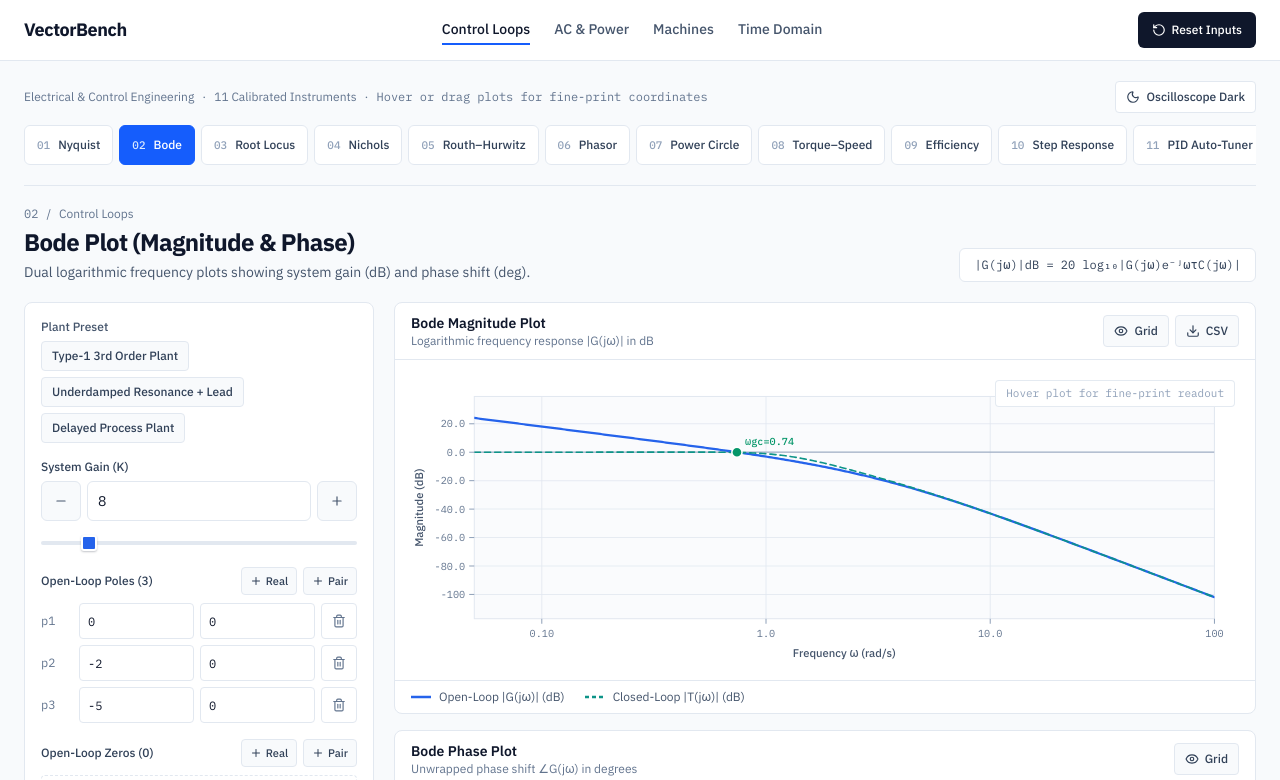
Test case: VectorBench Engineering Workbench Integration › fits FOPDT model from uploaded CSV, switches PID rules, simulates, and applies settings (Blue Pill)
Later steps or results of the test are not shown.
Click the tab "11 PID Auto-Tuner" at x=1200, y=145, box x1=1133 y1=125 x2=1266 y2=165
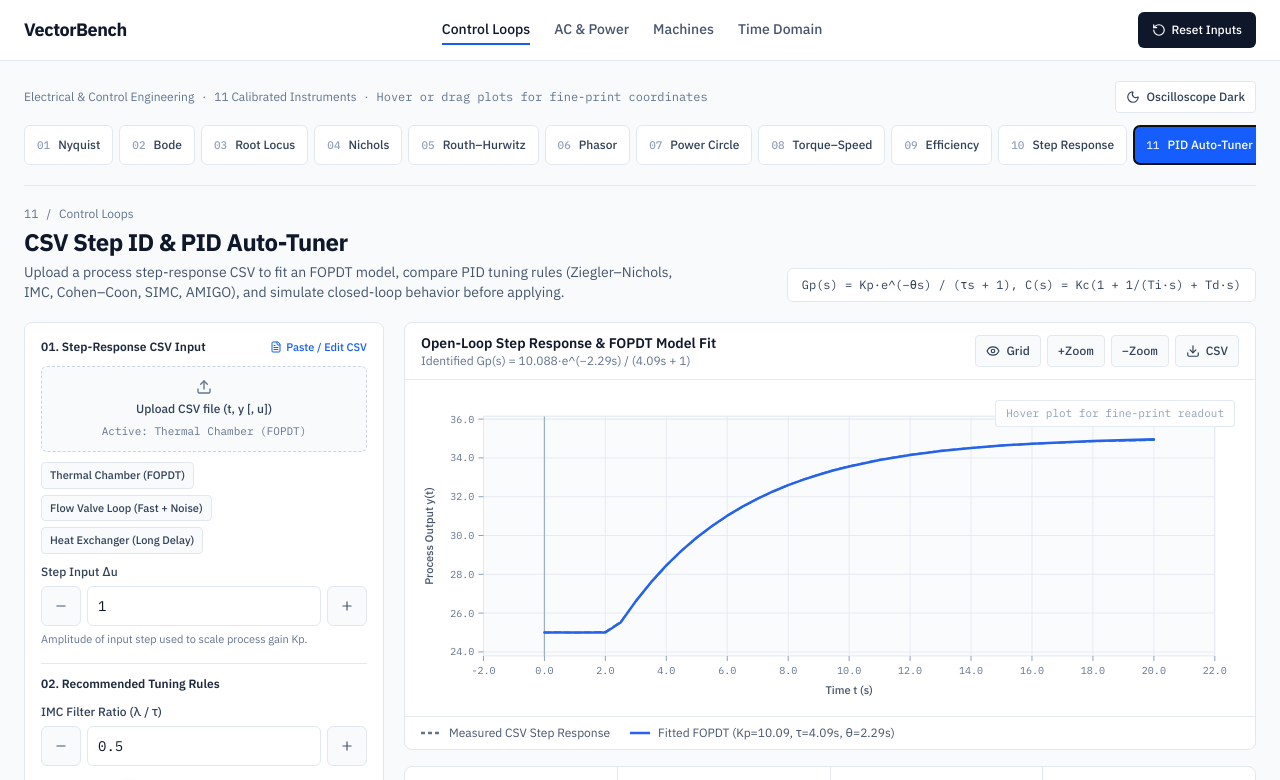
Now the heading "CSV Step ID & PID Auto-Tuner" is shown, box x1=24 y1=226 x2=348 y2=258
